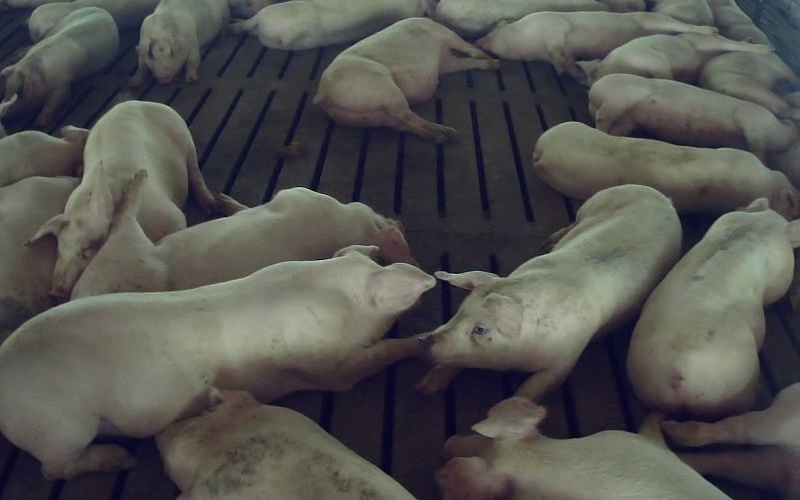pig: (0, 246, 434, 478), (419, 186, 681, 400), (627, 198, 799, 417), (31, 102, 214, 295), (436, 397, 729, 499), (156, 389, 414, 499), (533, 122, 799, 218), (314, 18, 498, 142), (589, 74, 796, 159), (477, 11, 716, 77), (0, 7, 118, 126), (0, 177, 77, 342), (232, 0, 433, 49), (578, 33, 770, 84), (699, 52, 799, 120), (0, 126, 88, 186)
